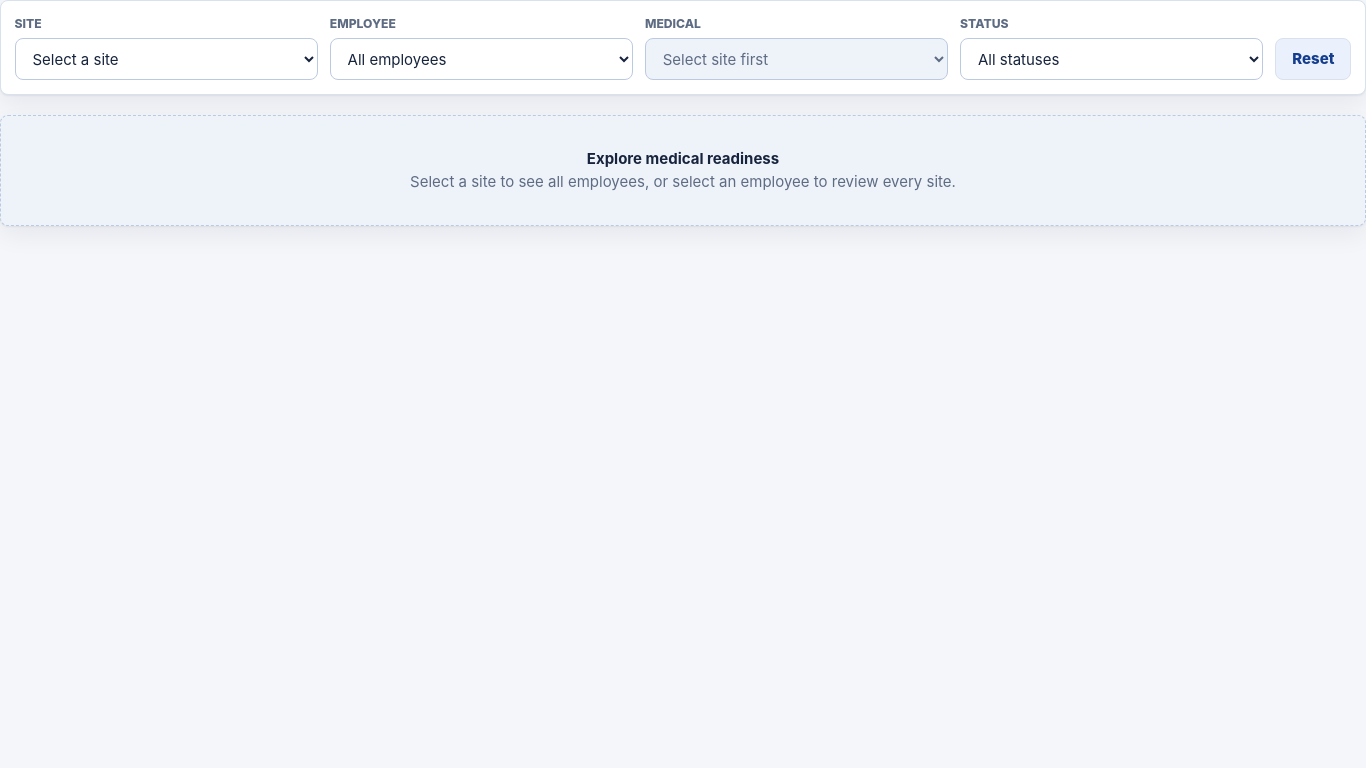
Medical › shows an empty Medical domain without losing combined site access
Select "North Ridge" in the dropdown named "Site" at (166, 59), box [15,38,318,80]
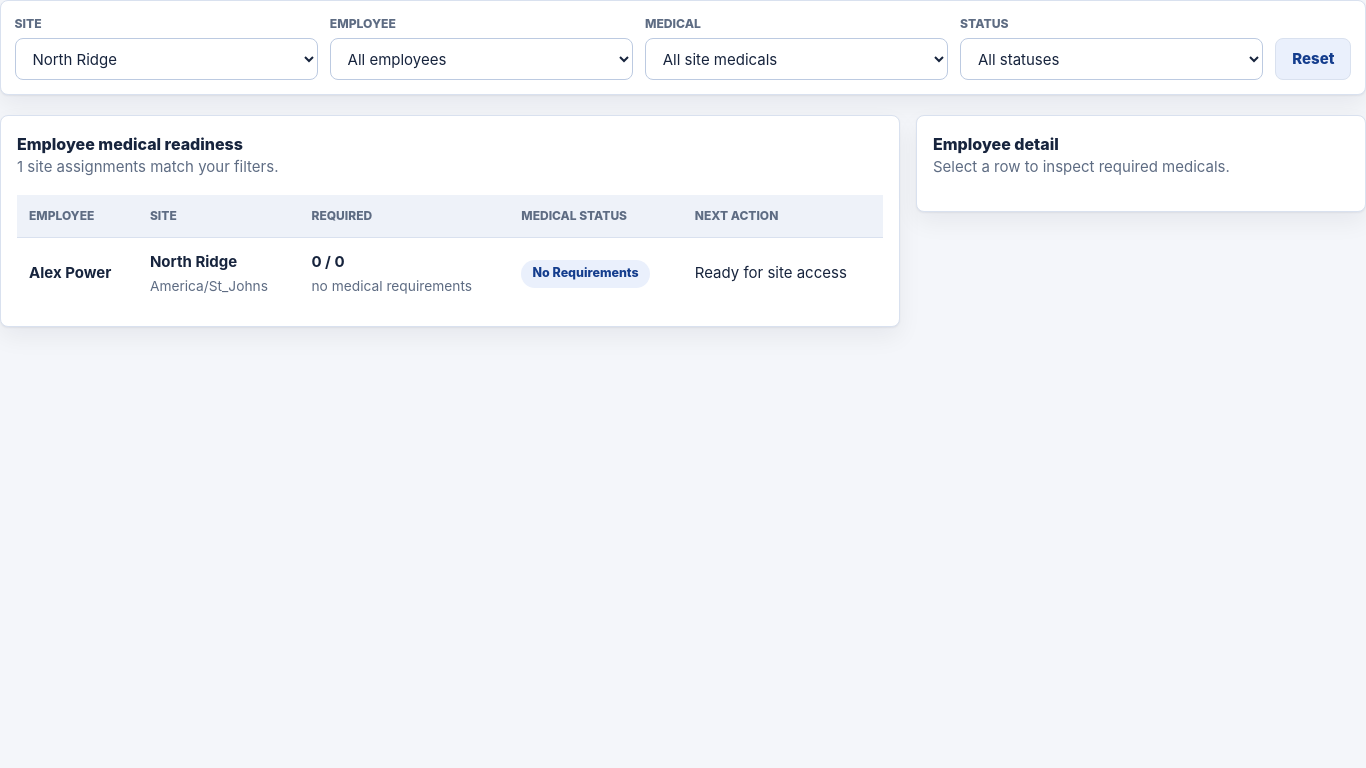
Now the element showing "Employee Site Required Medical status Next action" is shown, box [17,194,883,237]
Now the table shows "No Requirements", box [532,265,639,280]
Now the table shows "Ready for site access", box [695,263,847,282]
Click the row that starts with "Alex Power" at (70, 273), box [17,237,883,310]
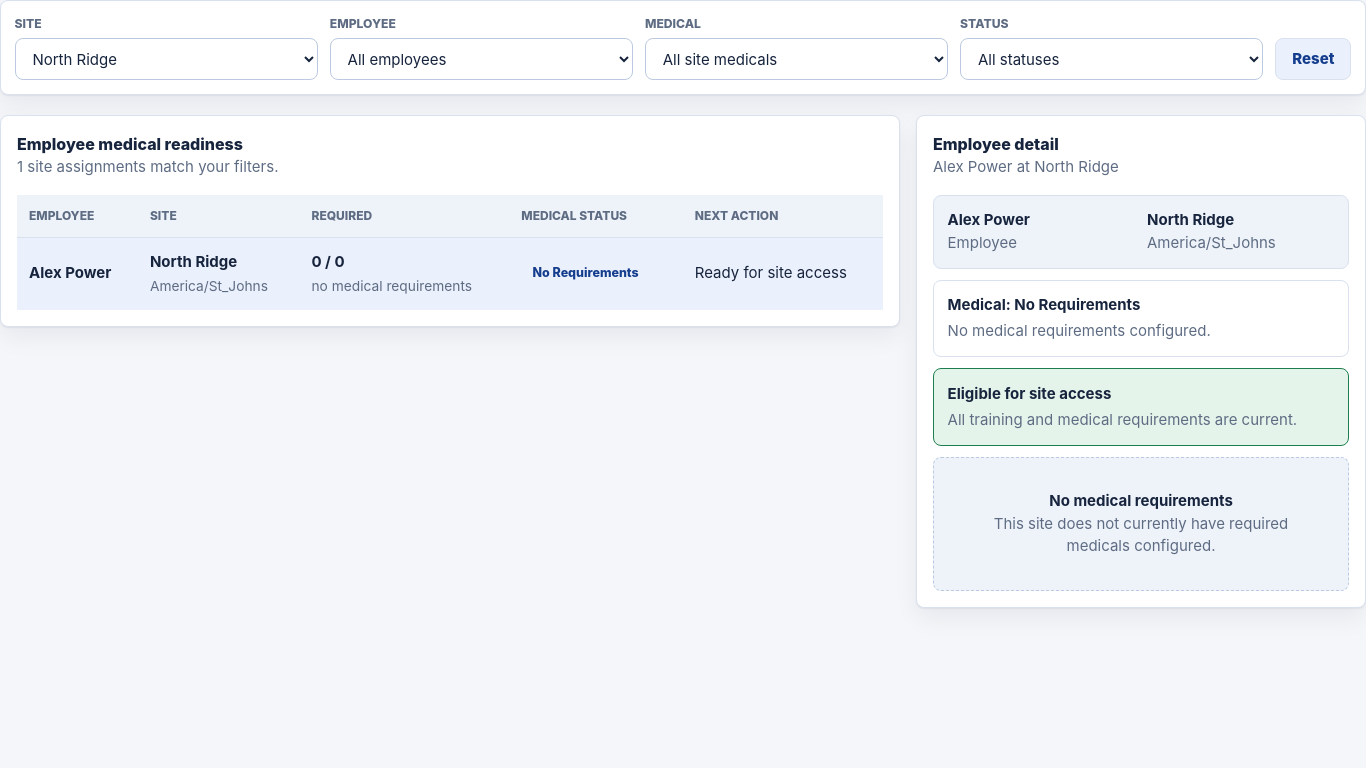
Now the element with class "detail-panel" shows "Eligible for site access", box [948,384,1111,403]
